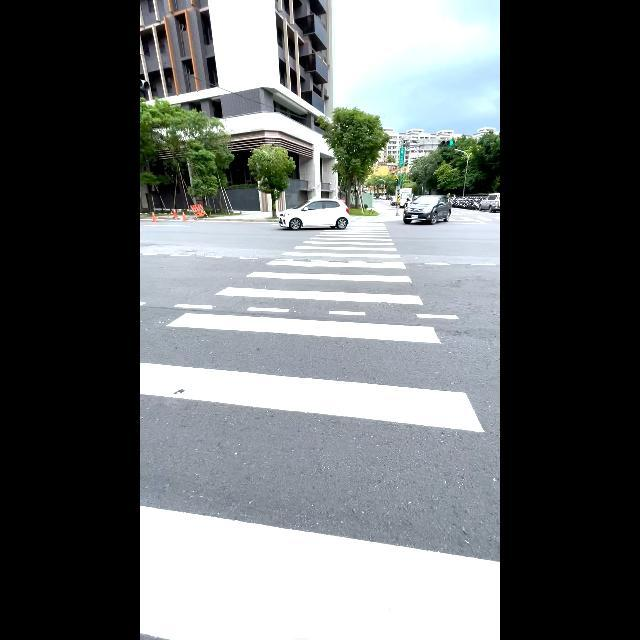sidewalk: (141, 212, 500, 640)
